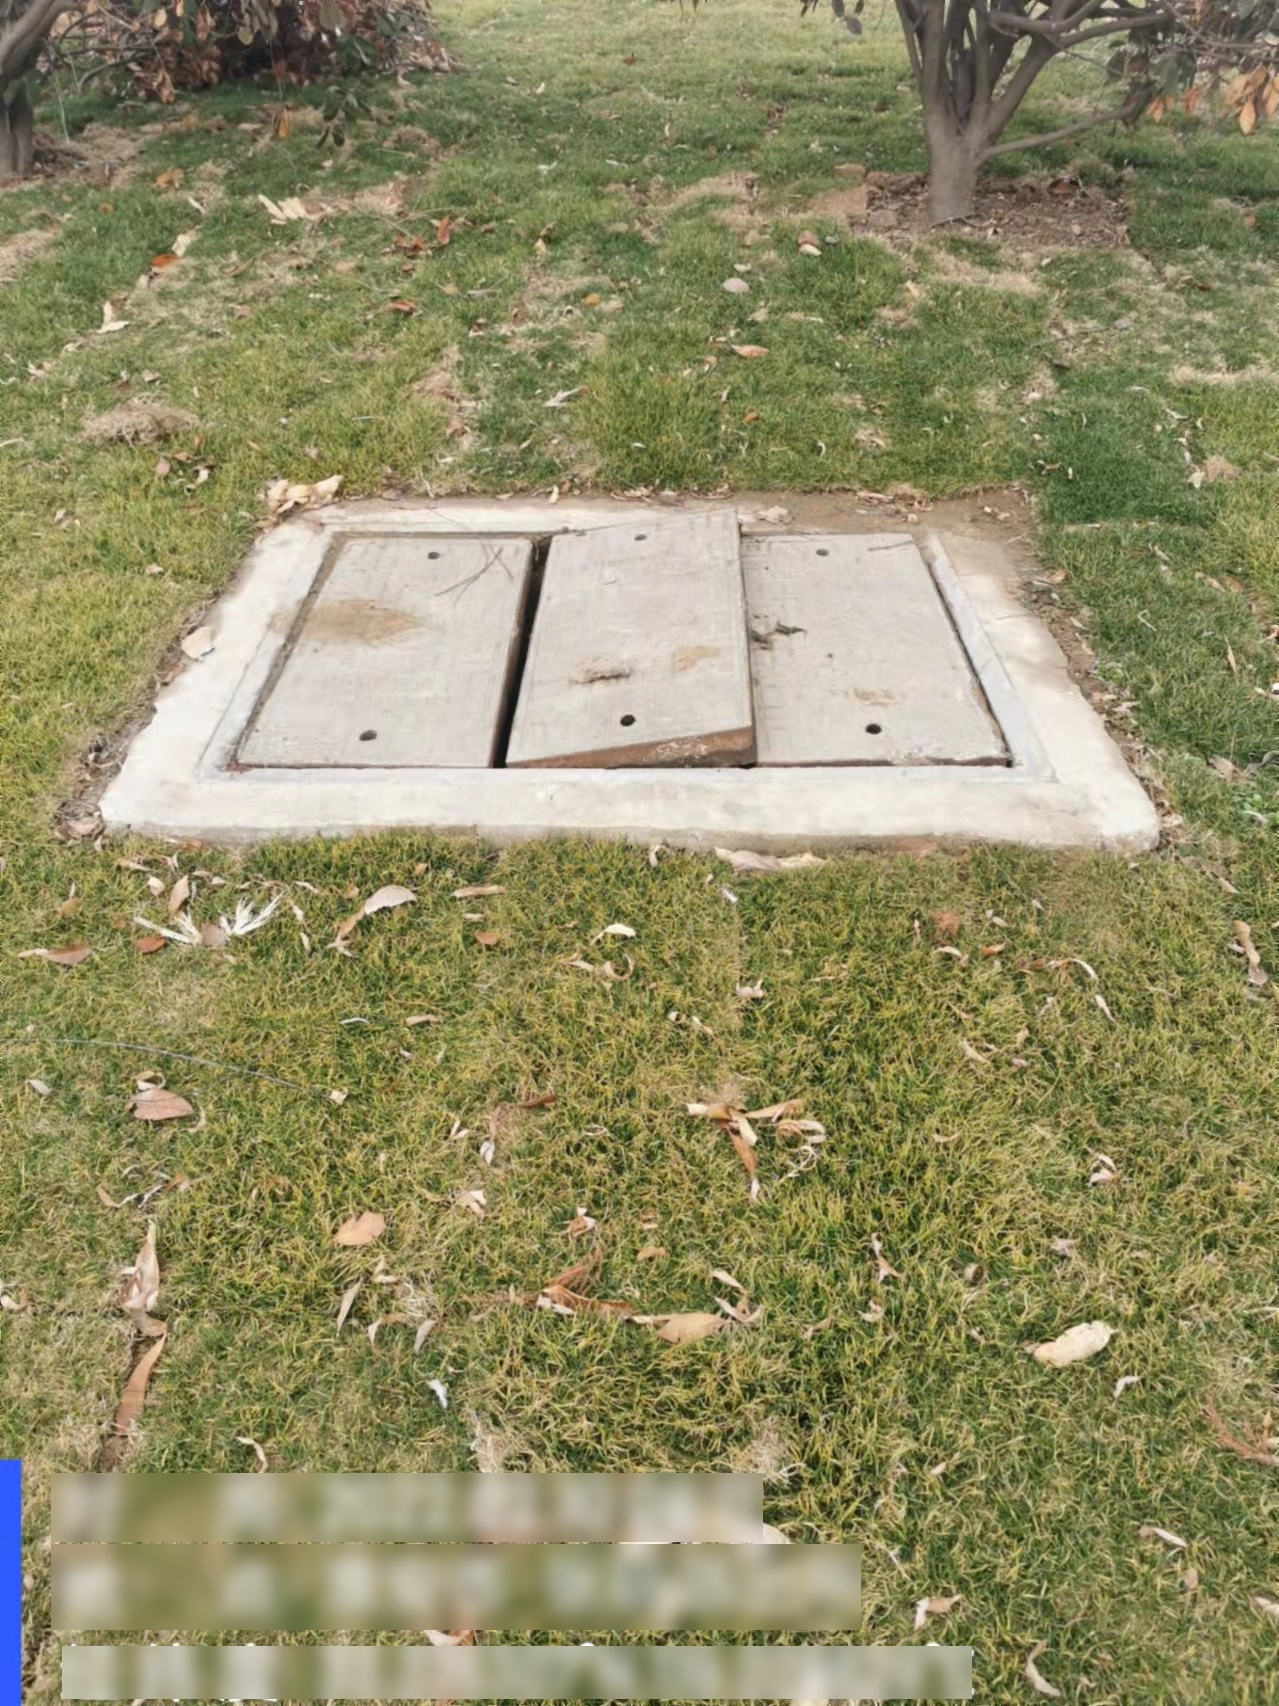uncovered: (206, 509, 1051, 789)
